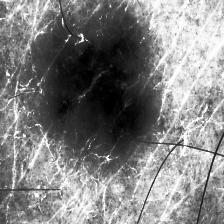Benign Marking or Mole: (42, 28, 148, 147)
